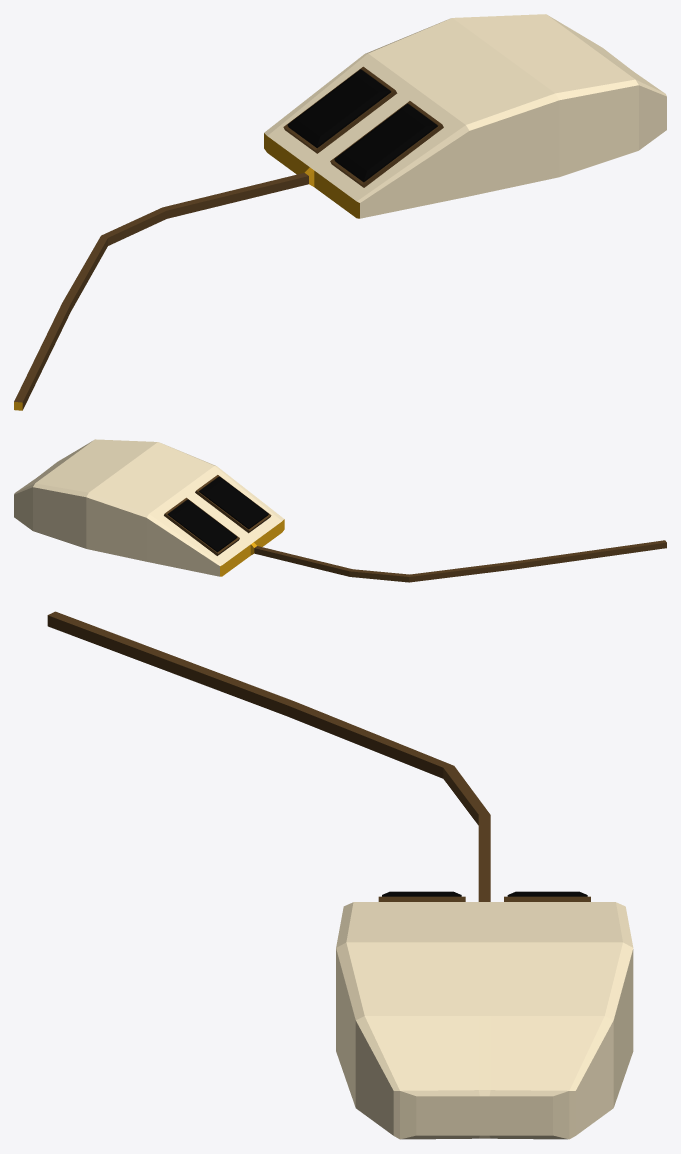
The model's file is mouse.fbx.
3 views of the same model, one above another, from view 1: azimuth 30°, elevation 25°; view 2: azimuth 150°, elevation 25°; view 3: azimuth 270°, elevation 25° (orthographic). The views are drawn at different scales.
Visible parts, largest first — view 1: Куб; view 2: Куб; view 3: Куб.
Part boxes in pixels (left/top/right/bottom): Куб: left=14, top=14, right=666, bottom=410; Куб: left=14, top=439, right=666, bottom=582; Куб: left=47, top=611, right=633, bottom=1139.
Size of the model in its own units: 10.09 by 1.03 by 4.88.
